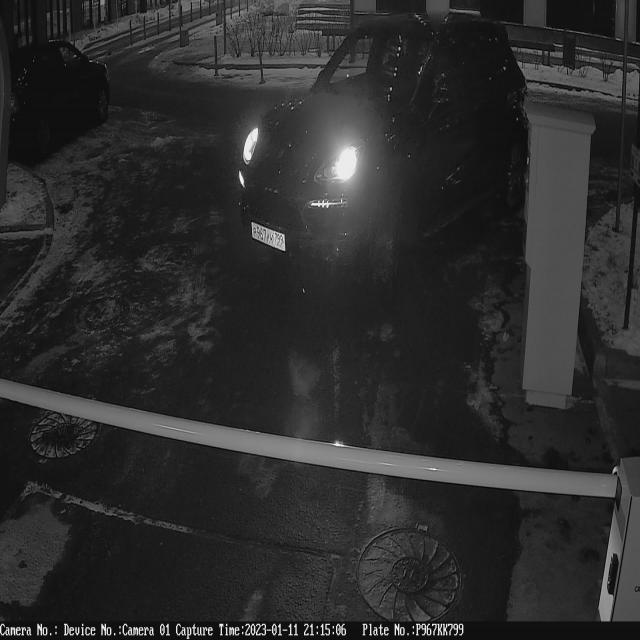car-plate-numbers: (248, 218, 291, 258)
